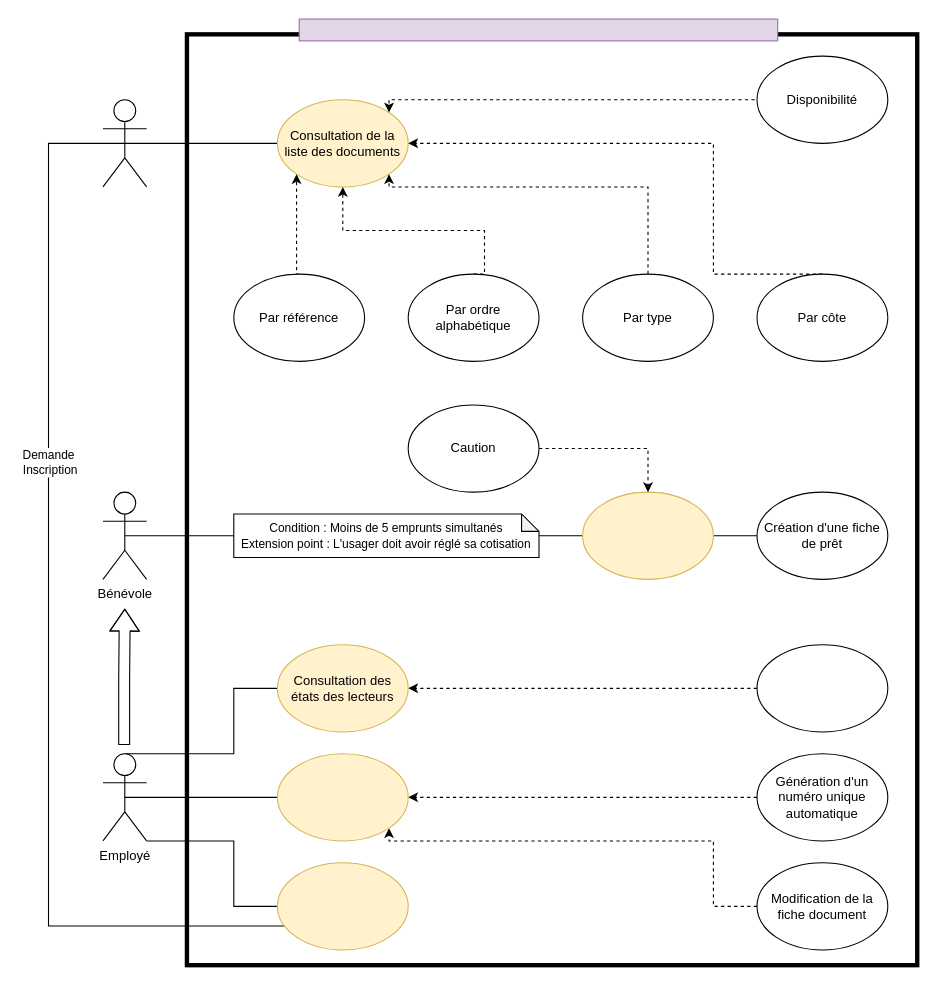
This 937x986 diagram has some shape labels left out. Each missing label, with the box of its shape:
Création d'une nouvelle carte de membre: (276, 862, 408, 950)
Création d'une nouvelle fiche document: (276, 753, 408, 841)
Enregistrement de l'emprunt: (582, 491, 713, 579)
Modification de la fiche d'un usager: (756, 644, 888, 732)
Système Informatique: (298, 18, 778, 41)
Usager: (102, 99, 147, 187)
